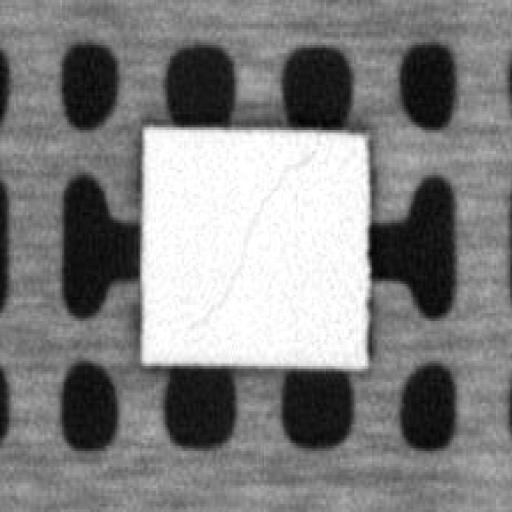DIE_CRACK: (180, 146, 314, 324)
